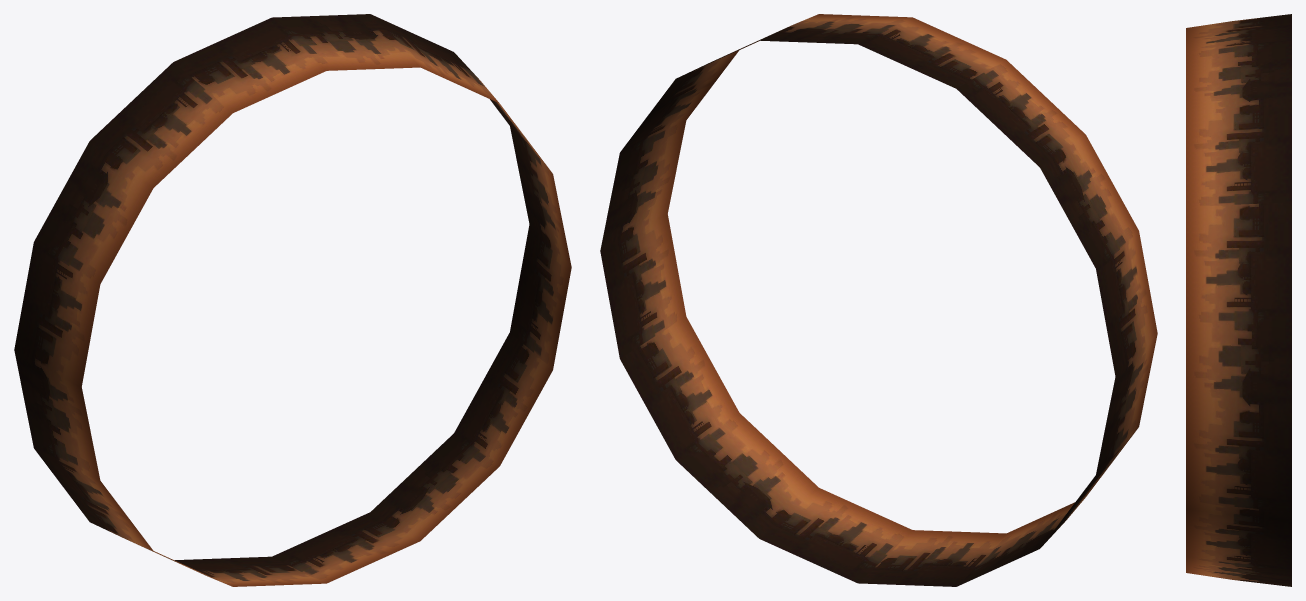
The model's file is Cylinder01_81090a99__ZombiesII_depot_diffuse_11_ed77244f_c1f257.obj.
3 views of the same model, side by side, from view 1: azimuth 30°, elevation 25°; view 2: azimuth 150°, elevation 25°; view 3: azimuth 270°, elevation 25° (orthographic). The views are drawn at different scales.
Size of the model in its own units: 106 by 106 by 19.54.
1 material, 1 textured.
